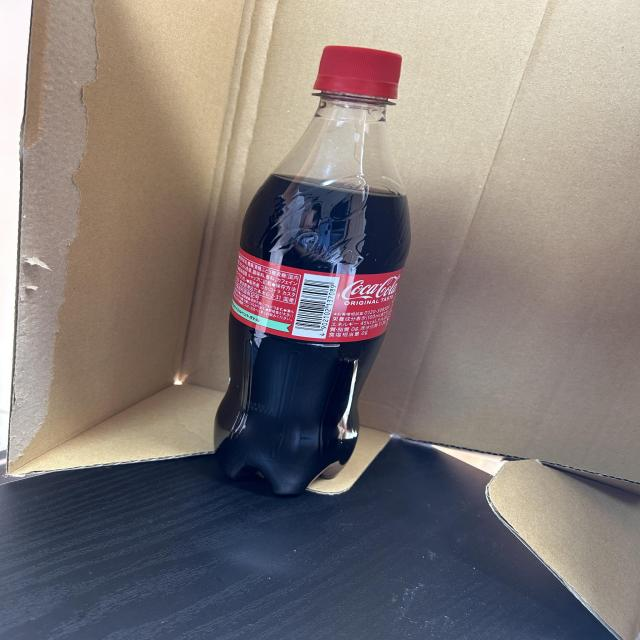high: (215, 46, 410, 495)
